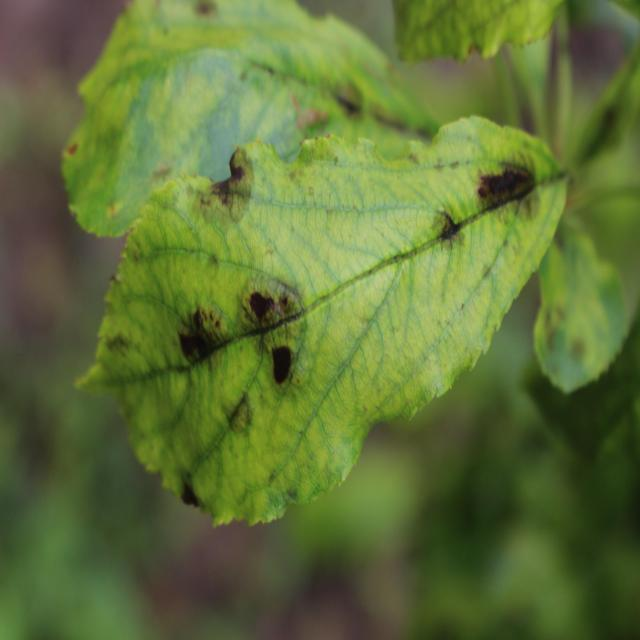scab: (431, 146, 551, 245), (239, 268, 305, 388), (170, 279, 227, 377), (192, 144, 255, 232)
